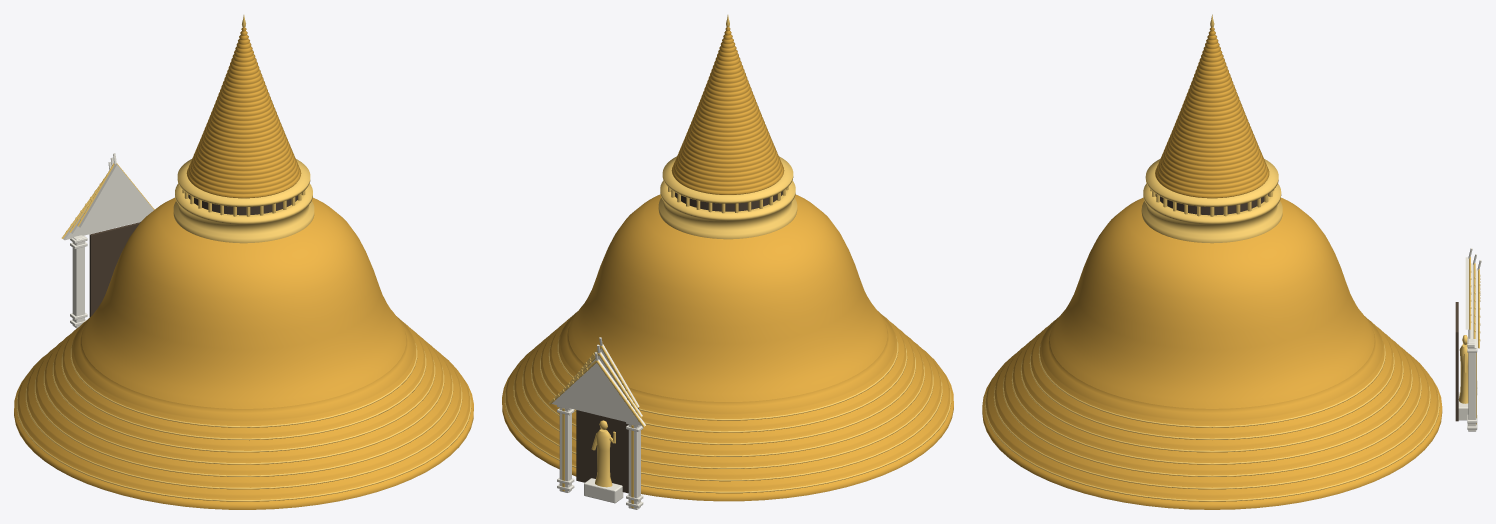
The model's file is HNP_Chedi_v003.fbx.
The picture shows the model from 3 angles, left to right: view 1: azimuth 30°, elevation 25°; view 2: azimuth 150°, elevation 25°; view 3: azimuth 270°, elevation 25°; orthographic projection.
Parts seen in each view (by area): view 1: HNP_Chedi_v003_HNP3_Gold, HNP_Chedi_v003_HNP3_GoldEdge, HNP_Chedi_v003_HNP3_Ivory, HNP_Chedi_v003_HNP3_Inset; view 2: HNP_Chedi_v003_HNP3_Gold, HNP_Chedi_v003_HNP3_GoldEdge, HNP_Chedi_v003_HNP3_Ivory, HNP_Chedi_v003_HNP3_Inset; view 3: HNP_Chedi_v003_HNP3_Gold, HNP_Chedi_v003_HNP3_GoldEdge, HNP_Chedi_v003_HNP3_Ivory, HNP_Chedi_v003_HNP3_Inset.
Boxes of the visible parts, x1,y1,x2,y2 form: HNP_Chedi_v003_HNP3_Gold: [14, 27, 473, 509]; HNP_Chedi_v003_HNP3_GoldEdge: [16, 15, 471, 501]; HNP_Chedi_v003_HNP3_Ivory: [63, 153, 153, 328]; HNP_Chedi_v003_HNP3_Inset: [89, 194, 297, 317]; HNP_Chedi_v003_HNP3_Gold: [502, 27, 953, 501]; HNP_Chedi_v003_HNP3_GoldEdge: [504, 15, 951, 507]; HNP_Chedi_v003_HNP3_Ivory: [552, 337, 645, 509]; HNP_Chedi_v003_HNP3_Inset: [576, 191, 782, 493]; HNP_Chedi_v003_HNP3_Gold: [982, 27, 1442, 509]; HNP_Chedi_v003_HNP3_GoldEdge: [984, 14, 1480, 501]; HNP_Chedi_v003_HNP3_Ivory: [1458, 248, 1481, 431]; HNP_Chedi_v003_HNP3_Inset: [1155, 194, 1458, 421].
Bounding box in the file's own units: 4600 × 4400 × 4995.
